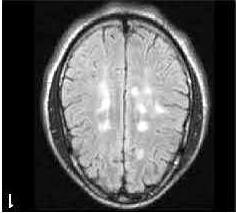Normal_Brain: (1, 1, 234, 213)
